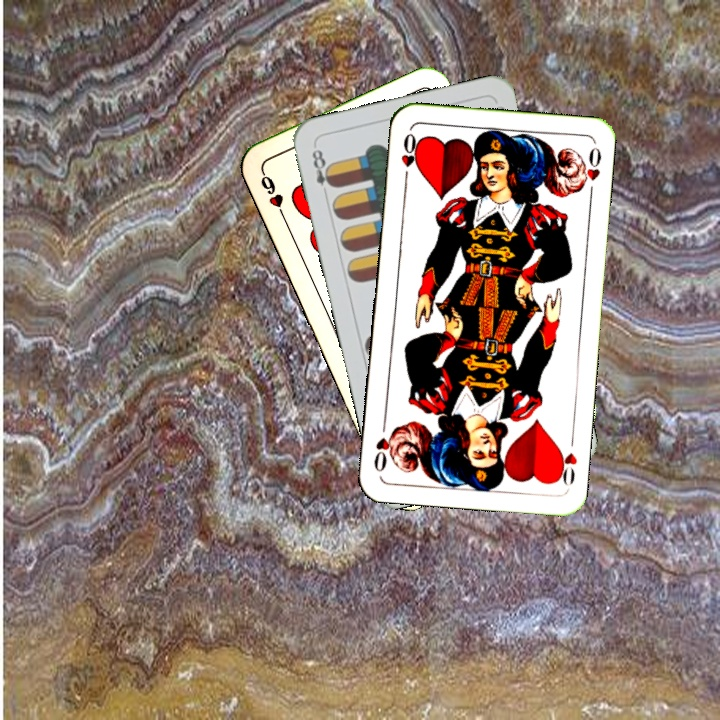E8: (308, 145, 338, 201)
H9: (256, 166, 289, 222)
HO: (552, 431, 580, 488), (397, 129, 420, 186)
